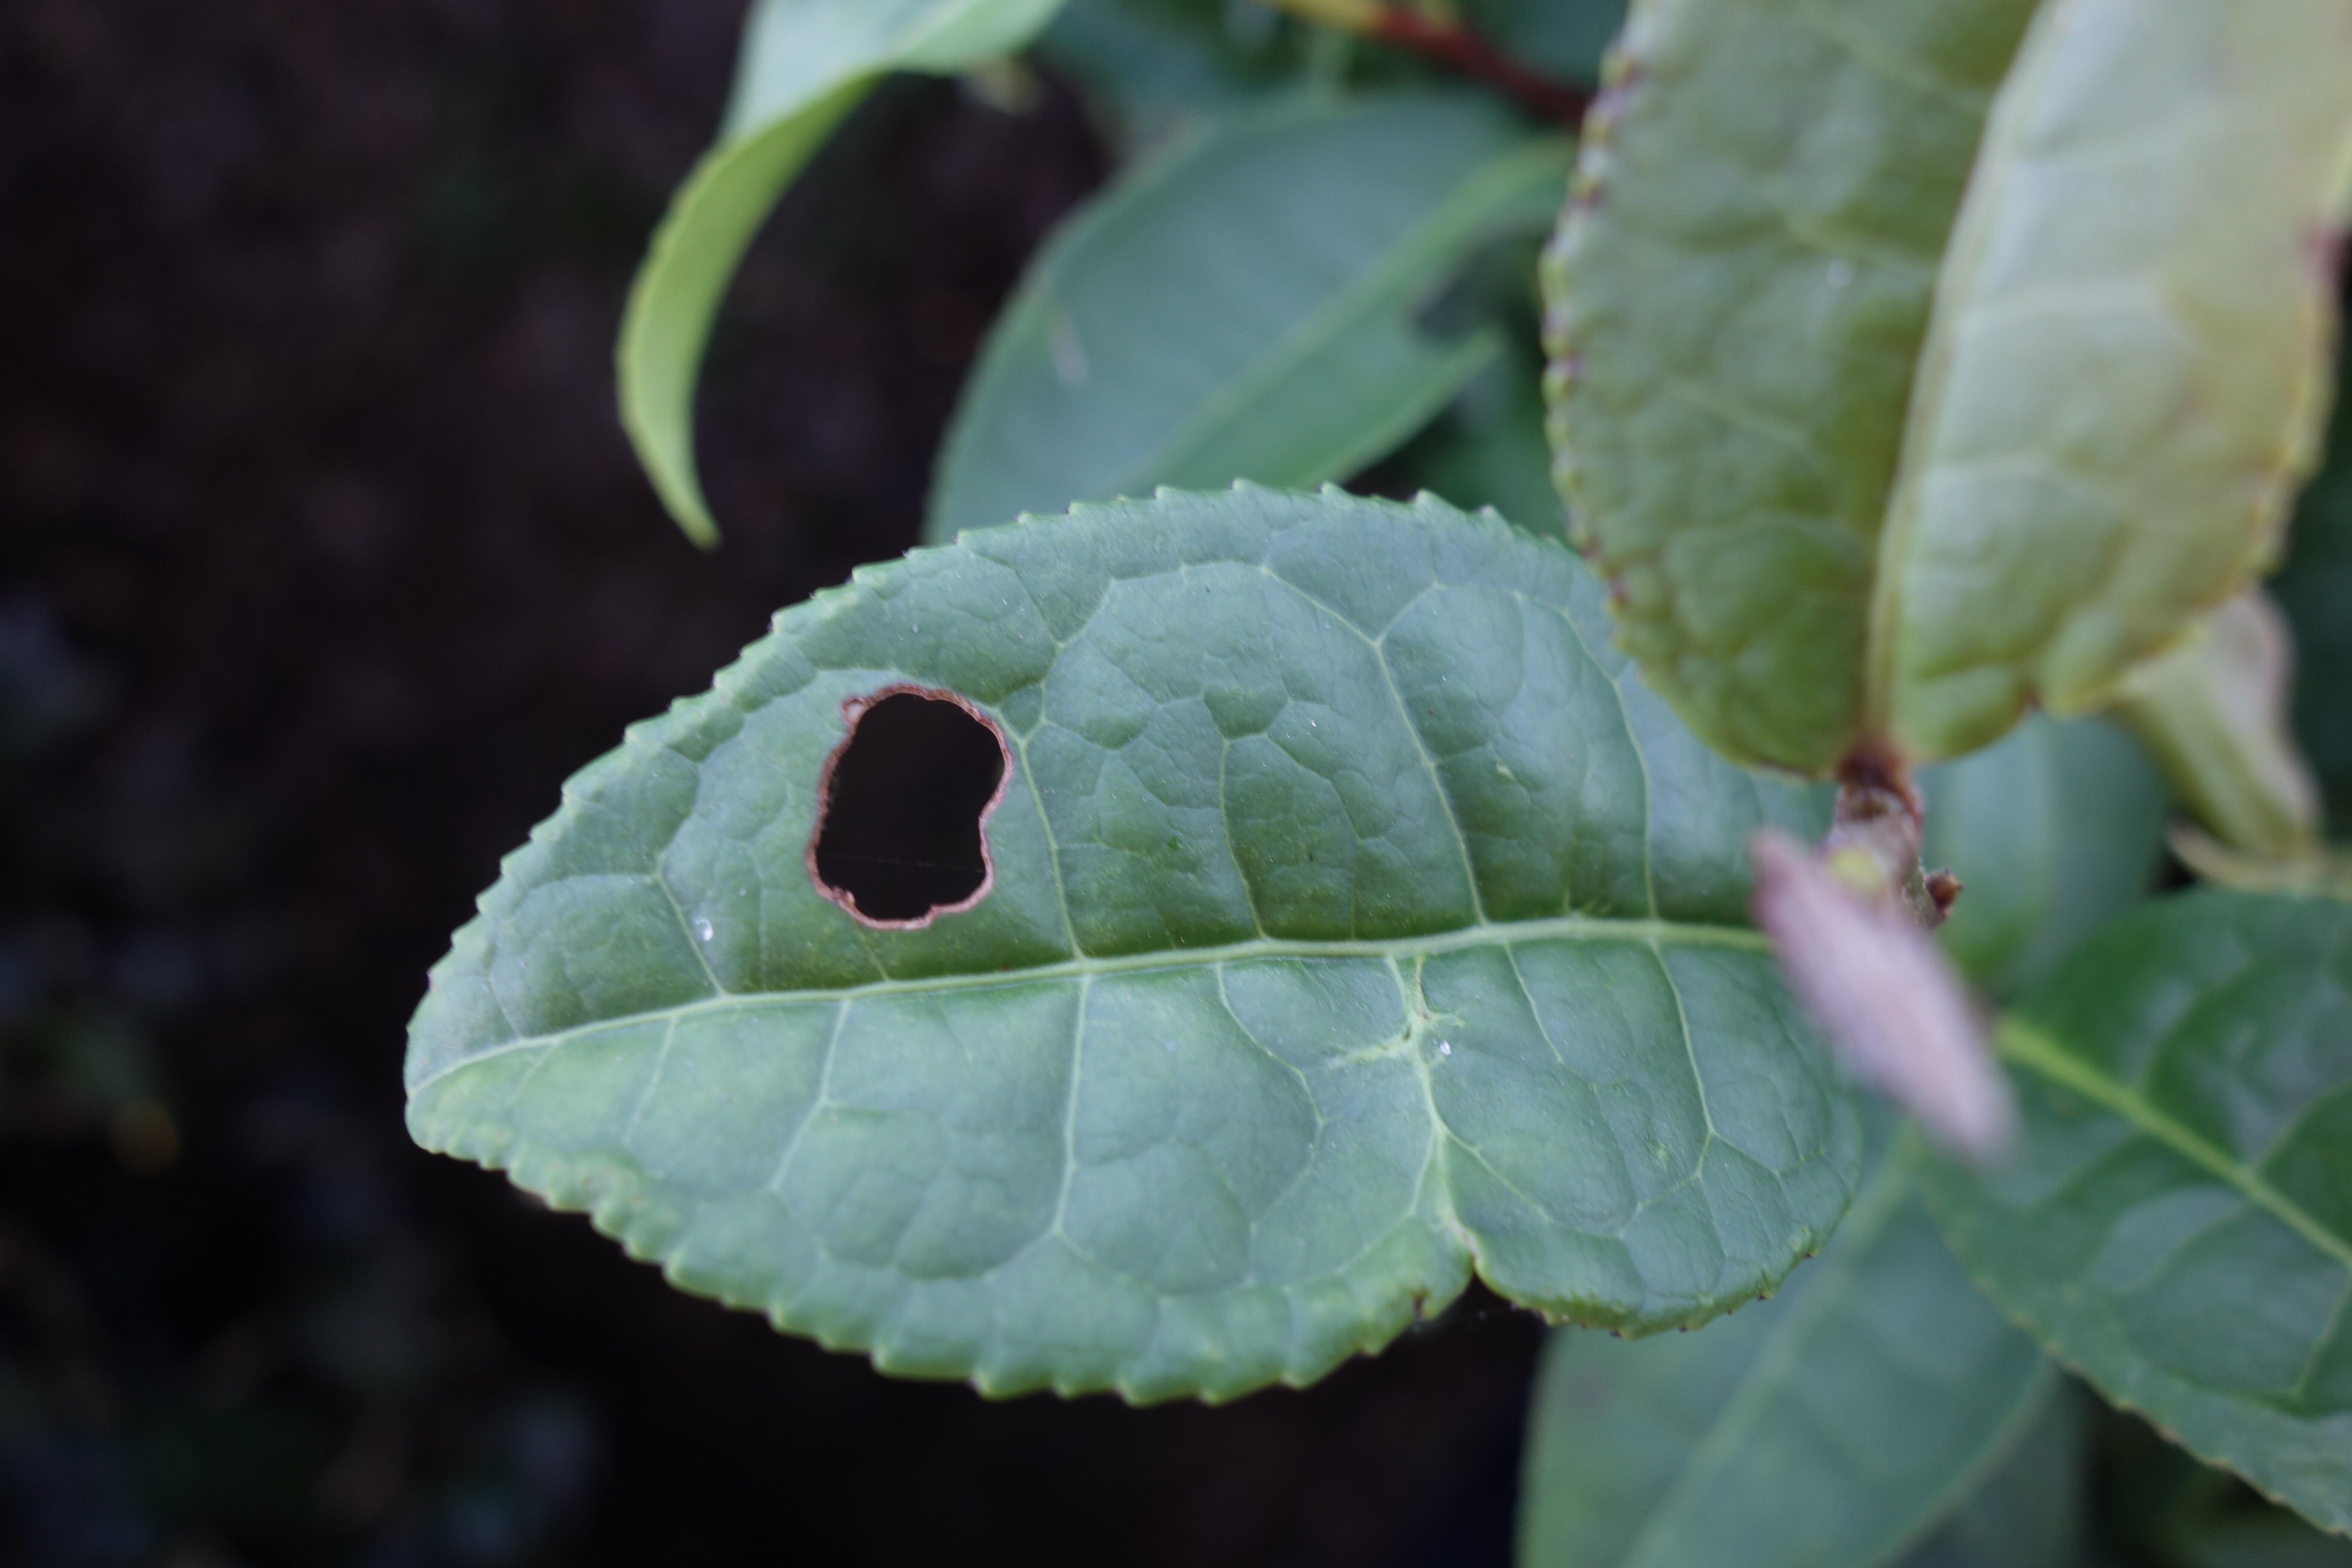chihuo_low: (406, 476, 1865, 1409)
